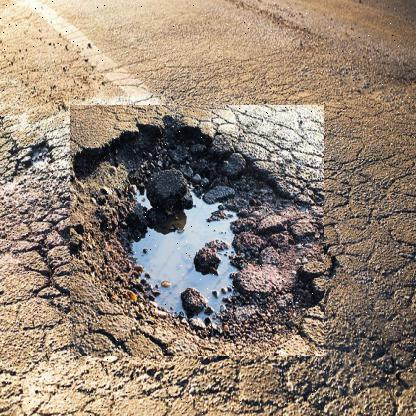crack: (24, 150, 122, 312)
pothole: (69, 105, 324, 357)
